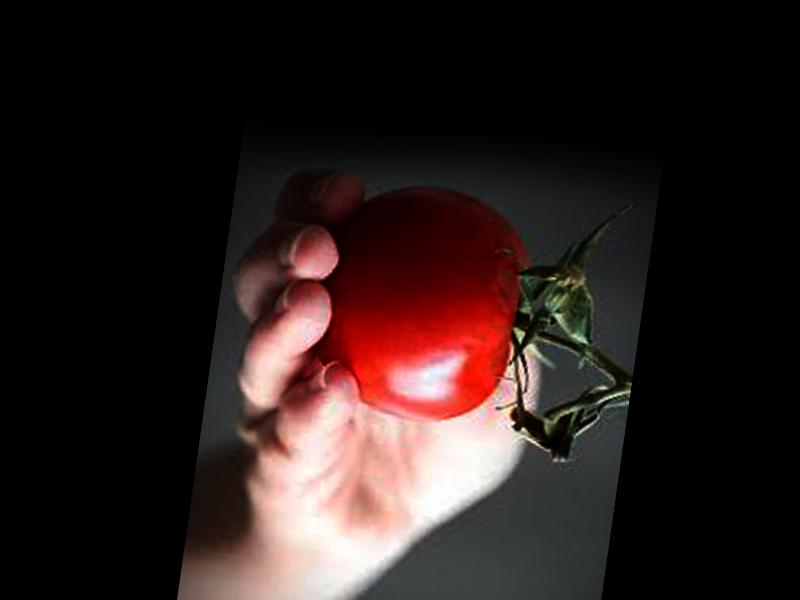Tomato: (306, 173, 541, 431)
